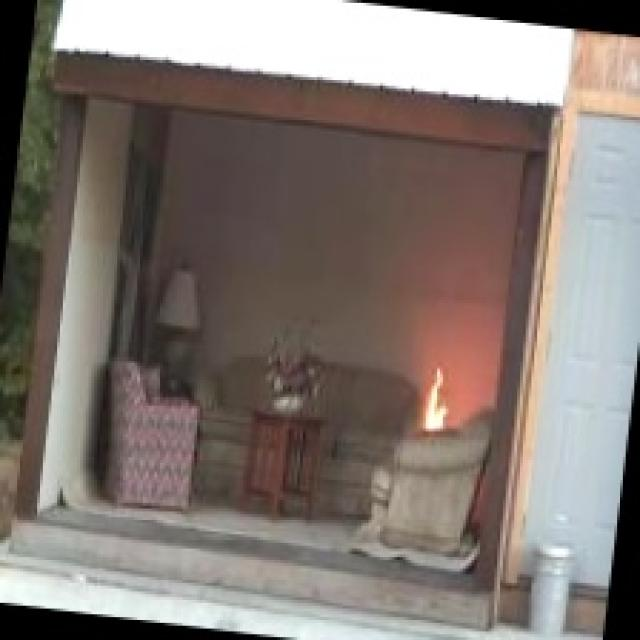fire: (387, 346, 487, 474)
